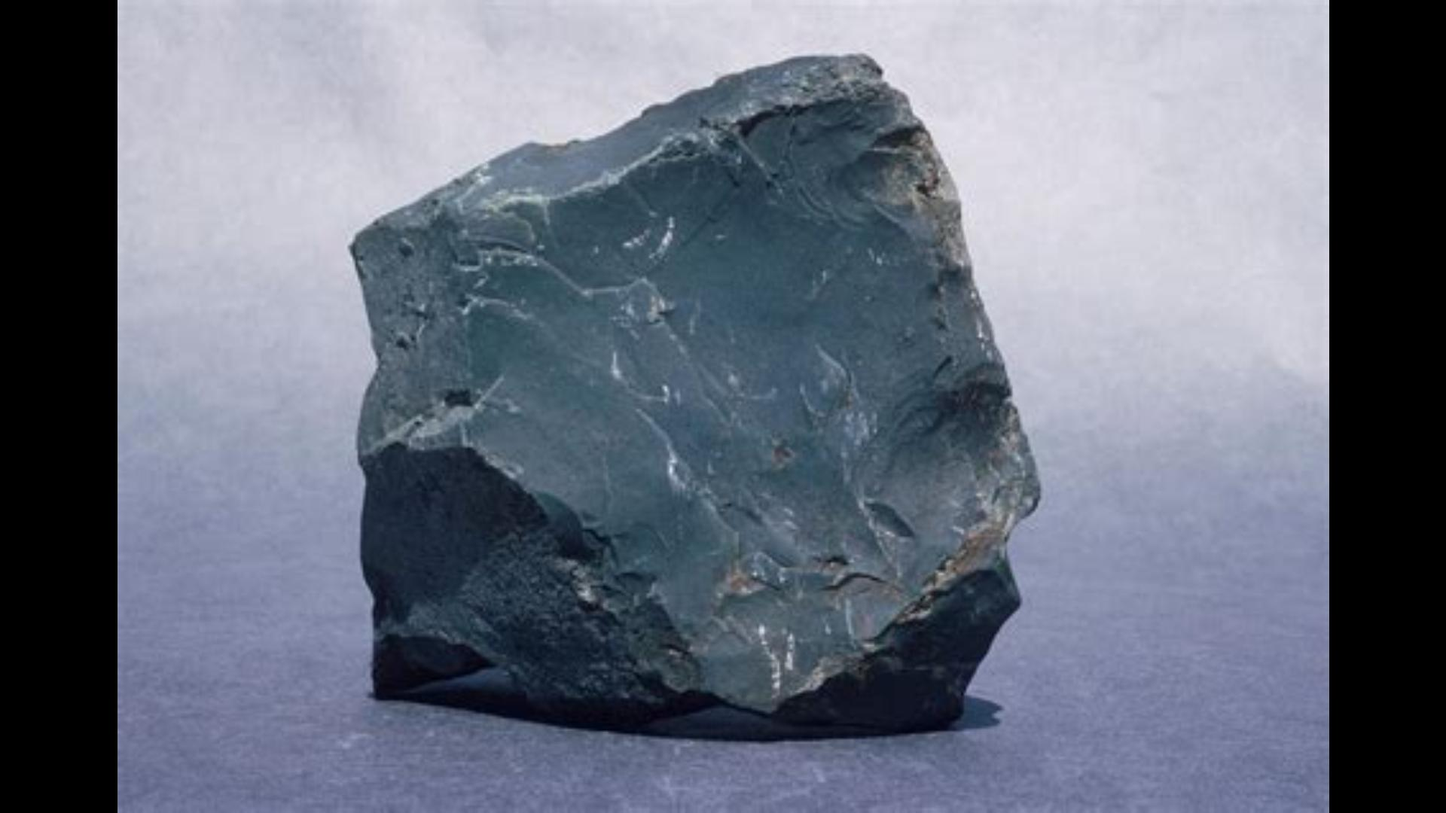rock: (355, 59, 1035, 724)
